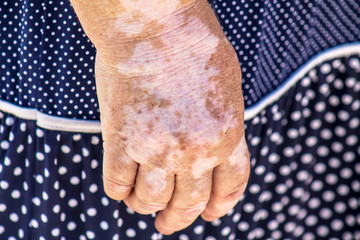vitiligo: (100, 19, 251, 203)
